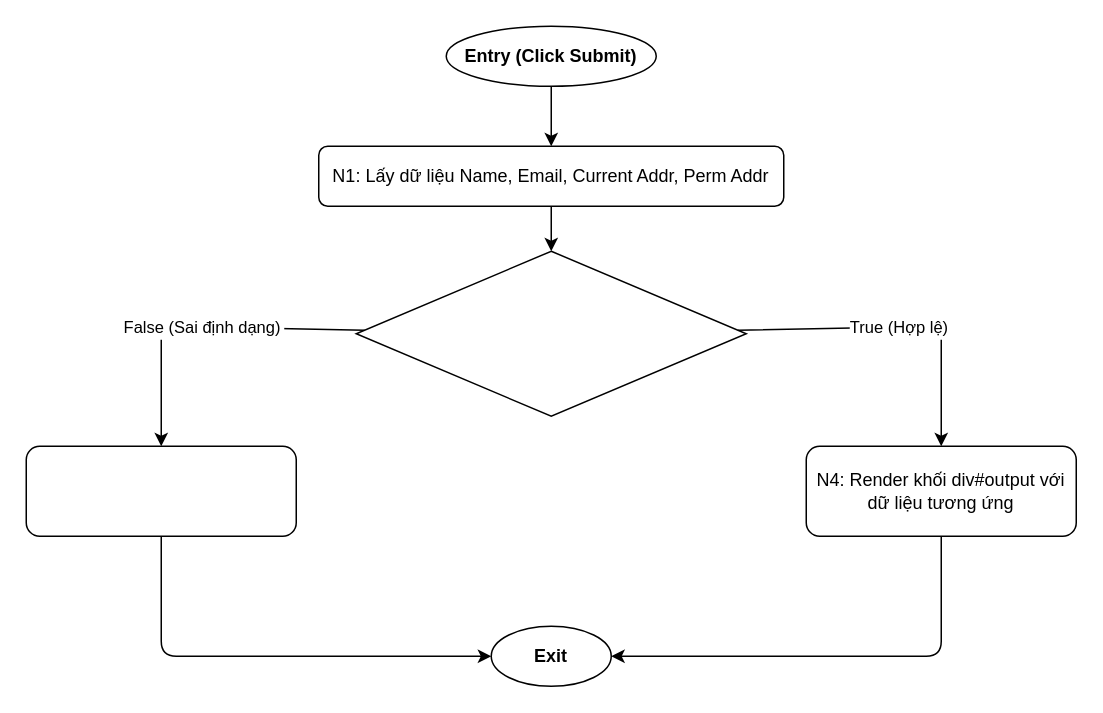
This 1103x713 diagram has some shape labels left out. Each missing label, with the box of its shape:
N2: Email rỗng HOẶC đúng định dạng hợp lệ?: (355, 250, 746, 416)
N3: Thêm class 'field-error' (viền đỏ) cho ô Email: (25, 445, 296, 536)
